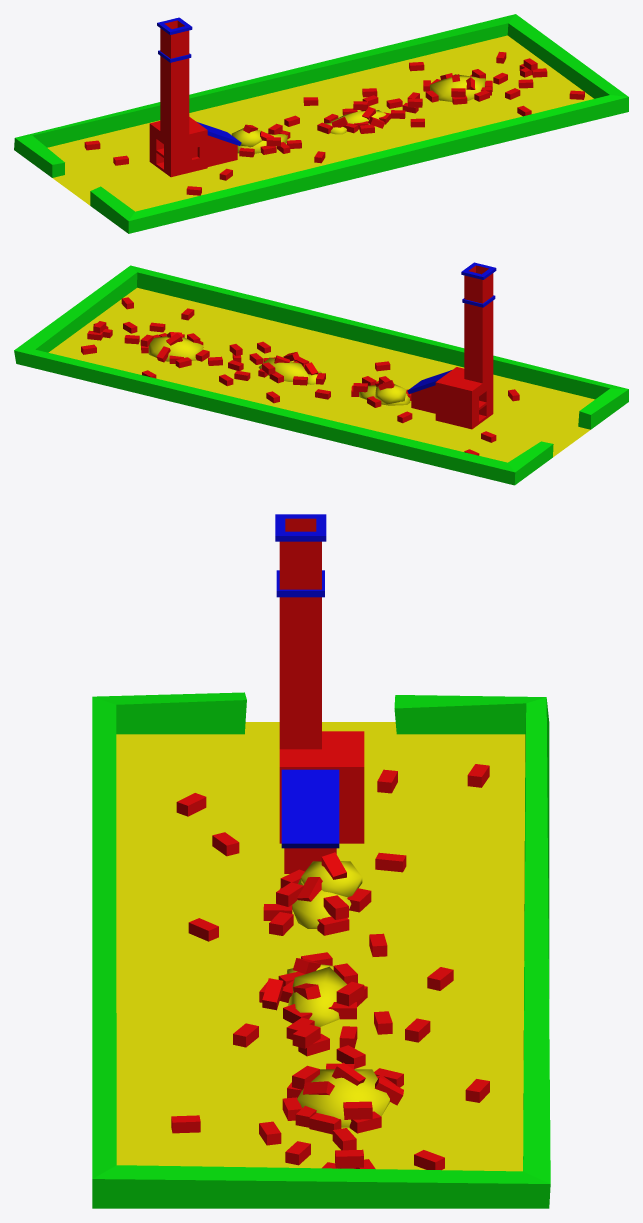
Rendered from Barrack_Destroyed.fbx.
3 renders of one model, top to bottom at view 1: azimuth 30°, elevation 25°; view 2: azimuth 150°, elevation 25°; view 3: azimuth 270°, elevation 25°, orthographic. The views are drawn at different scales.
Parts seen in each view (by area): view 1: mesh_Barrack_Destroyed; view 2: mesh_Barrack_Destroyed; view 3: mesh_Barrack_Destroyed.
Boxes of the visible parts, box(x1,y1,x2,y2) form: mesh_Barrack_Destroyed: box(14, 14, 628, 233); mesh_Barrack_Destroyed: box(14, 262, 628, 485); mesh_Barrack_Destroyed: box(92, 514, 550, 1208).
Bounding box in the file's own units: 1016 × 306 × 403.
